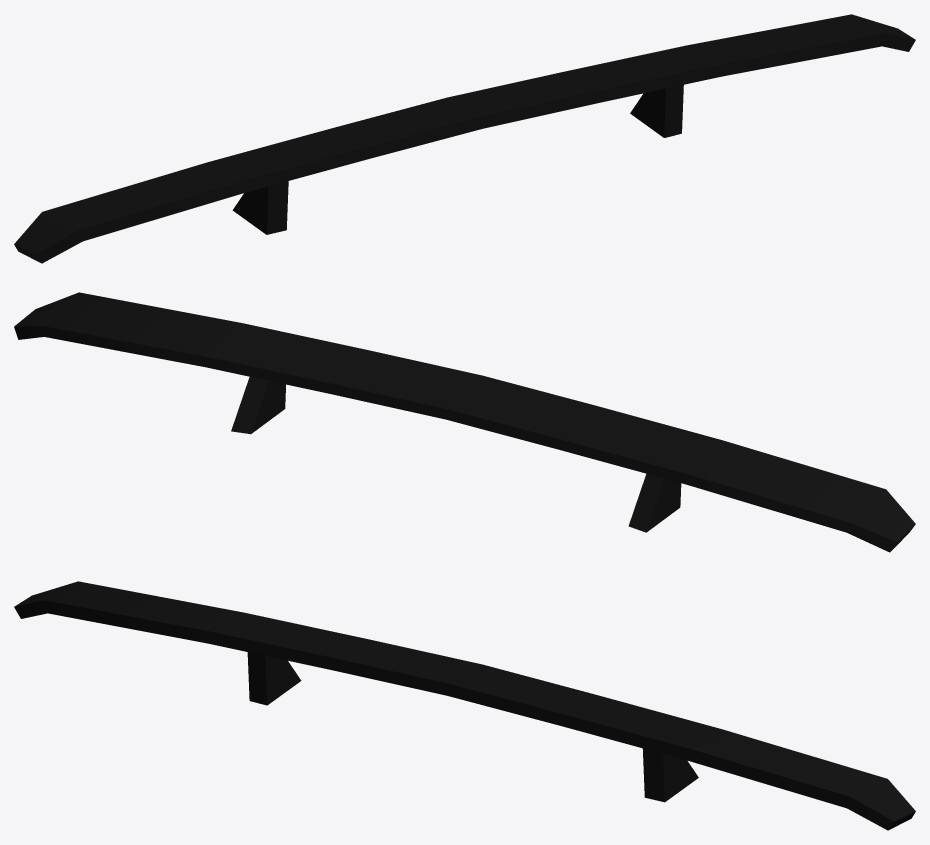
Rendered from GTO_Spoiler02.fbx.
3 renders of one model, top to bottom at view 1: azimuth 30°, elevation 25°; view 2: azimuth 150°, elevation 25°; view 3: azimuth 330°, elevation 25°, orthographic.
Visible parts, largest first — view 1: Empty_Mesh; view 2: Empty_Mesh; view 3: Empty_Mesh.
Part boxes in pixels (x1,y1,x2,y2): Empty_Mesh: (14,14,915,263); Empty_Mesh: (14,292,915,552); Empty_Mesh: (14,581,915,830).
Size of the model in its own units: 148 by 11.98 by 12.48.
